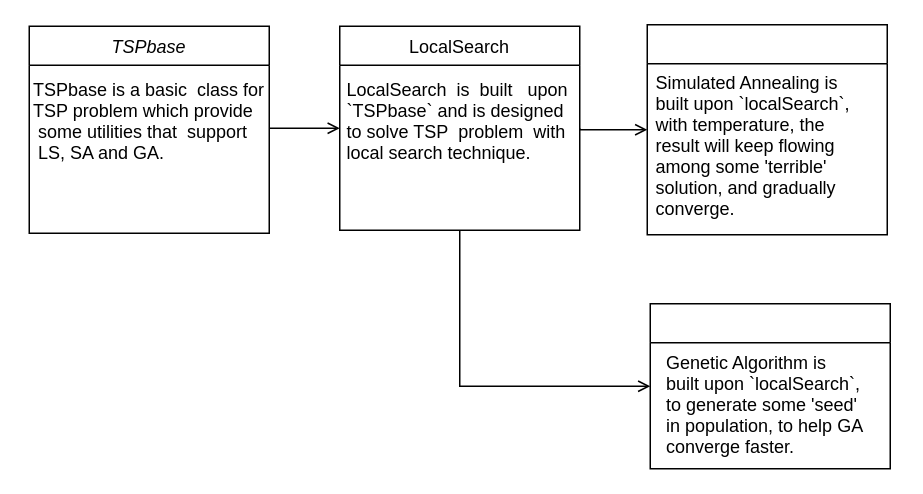
Some shapes in this 923 by 494 pixel diagram are drawn without their labels. Each missing label, with the box of its shape:
GeneticAlgorithm: (649, 302, 890, 469)
SimulatedAnnealing: (646, 23, 887, 235)
